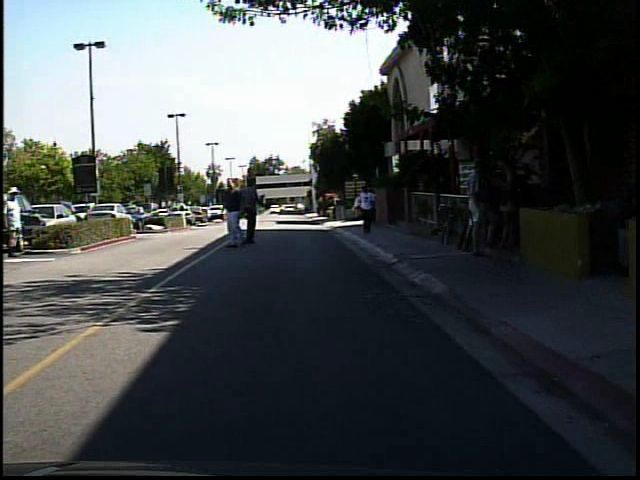person: (458, 150, 498, 261), (491, 156, 520, 253), (219, 175, 254, 249), (236, 174, 268, 249), (7, 182, 30, 260), (354, 179, 381, 238), (176, 194, 191, 227), (245, 198, 261, 223)
